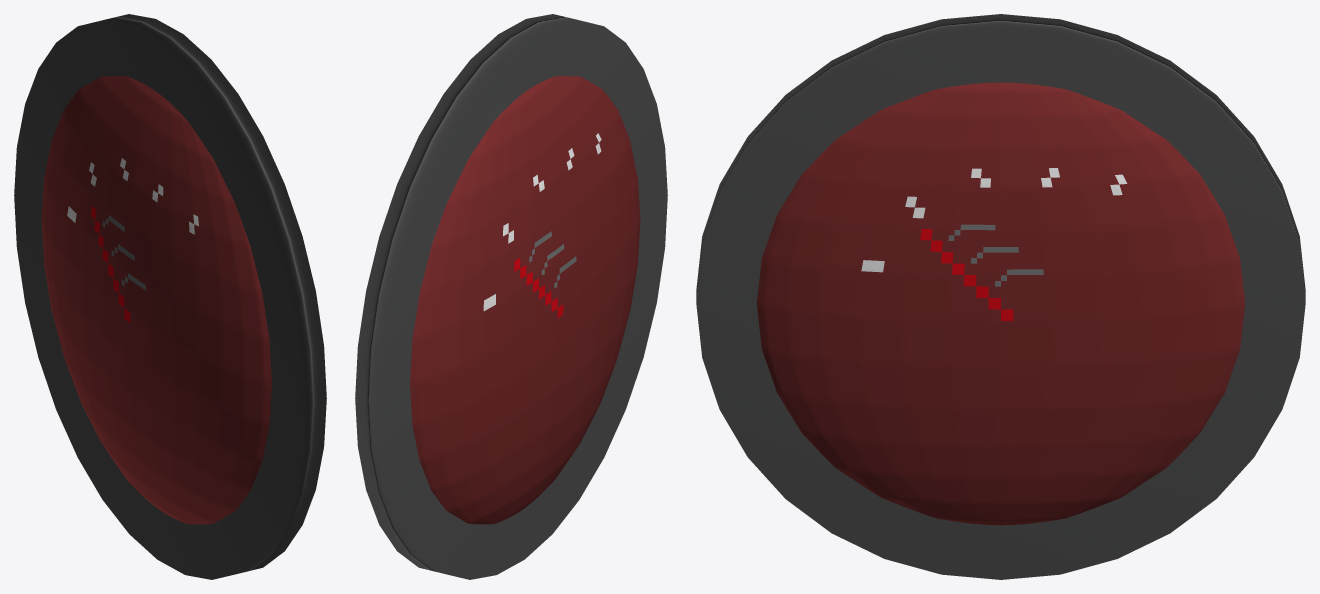
File: speedicon3.fbx
The picture shows the model from 3 angles, left to right: view 1: azimuth 30°, elevation 25°; view 2: azimuth 150°, elevation 25°; view 3: azimuth 270°, elevation 25°; orthographic projection. The views are drawn at different scales.
Visible parts, largest first — view 1: Cylinder; view 2: Cylinder; view 3: Cylinder.
Part boxes in pixels (x1,y1,x2,y2): Cylinder: (14,14,326,579); Cylinder: (355,14,667,579); Cylinder: (696,14,1305,579).
Size of the model in its own units: 68.65 by 368 by 368.
